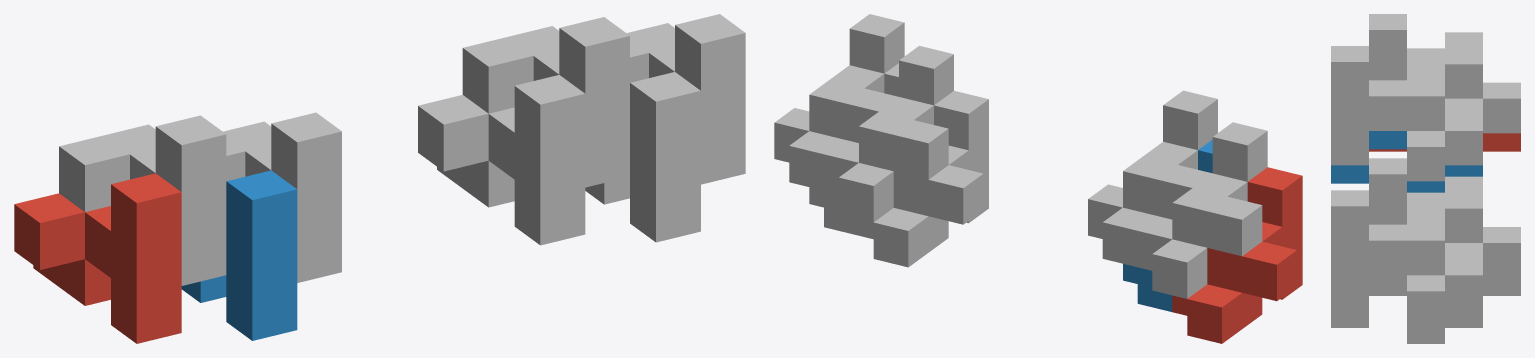
The model's file is tiling.obj.
3 renders of one model, left to right at view 1: azimuth 30°, elevation 25°; view 2: azimuth 150°, elevation 25°; view 3: azimuth 270°, elevation 25°, orthographic. The views are drawn at different scales.
Parts seen in each view (by area): view 1: copy_1_domain_5, copy_1_domain_1, copy_1_domain_3, copy_1_domain_7, copy_1_domain_2, copy_1_domain_6, copy_1_domain_8, copy_1_domain_4; view 2: copy_1_domain_3, copy_1_domain_7, copy_1_domain_1, copy_1_domain_5, copy_1_domain_8, copy_1_domain_4, copy_1_domain_2, copy_1_domain_6; view 3: copy_1_domain_8, copy_1_domain_4, copy_1_domain_3, copy_1_domain_7, copy_1_domain_6, copy_1_domain_2, copy_1_domain_1, copy_1_domain_5.
Part boxes in pixels (x1,y1,x2,y2): copy_1_domain_5: (418, 75, 585, 245); copy_1_domain_1: (14, 173, 181, 343); copy_1_domain_3: (59, 115, 226, 285); copy_1_domain_7: (462, 17, 629, 187); copy_1_domain_2: (181, 170, 297, 340); copy_1_domain_6: (585, 72, 700, 242); copy_1_domain_8: (626, 14, 745, 184); copy_1_domain_4: (223, 112, 341, 282); copy_1_domain_3: (1137, 122, 1267, 298); copy_1_domain_7: (824, 45, 953, 222); copy_1_domain_1: (1172, 167, 1302, 343); copy_1_domain_5: (859, 90, 988, 267); copy_1_domain_8: (774, 14, 904, 190); copy_1_domain_4: (1088, 90, 1217, 267); copy_1_domain_2: (1123, 139, 1212, 311); copy_1_domain_6: (809, 63, 898, 235); copy_1_domain_8: (1331, 190, 1482, 325); copy_1_domain_4: (1331, 46, 1482, 181); copy_1_domain_3: (1369, 14, 1520, 133); copy_1_domain_7: (1369, 158, 1520, 277); copy_1_domain_6: (1331, 275, 1482, 343); copy_1_domain_2: (1331, 131, 1482, 192); copy_1_domain_1: (1369, 133, 1520, 151); copy_1_domain_5: (1369, 277, 1520, 295).
Bounding box in the file's own units: 15 × 4 × 5.
